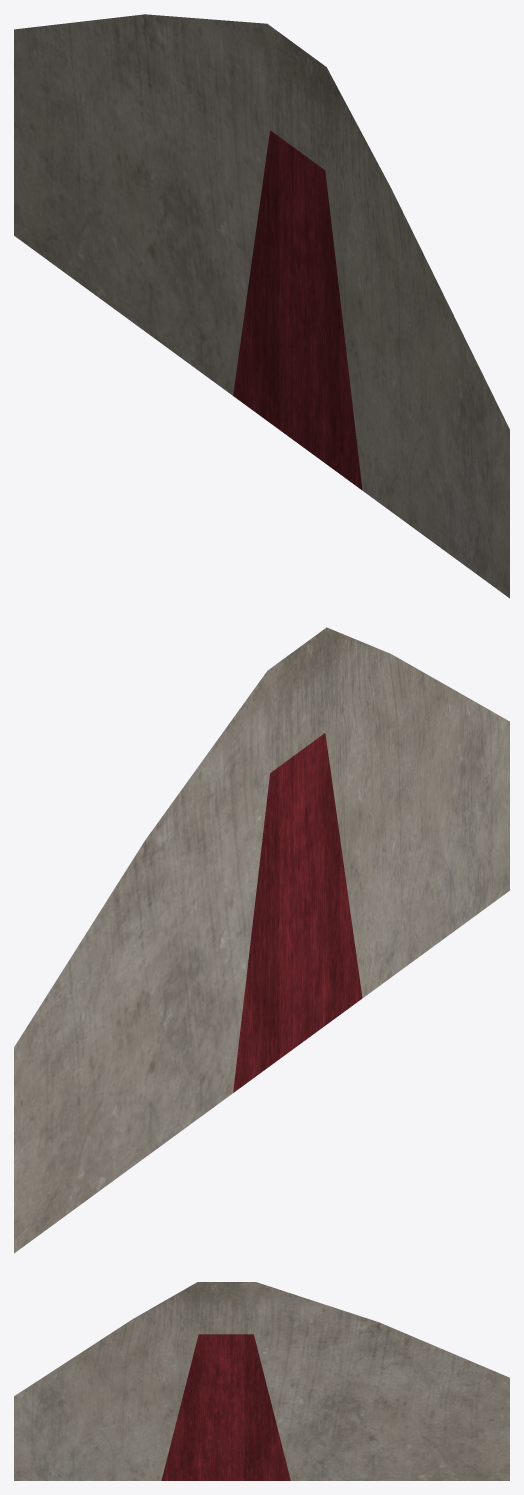
Rendered from SM_R_MiddleBeam_12.fbx.
3 views of the same model, one above another, from view 1: azimuth 30°, elevation 25°; view 2: azimuth 150°, elevation 25°; view 3: azimuth 270°, elevation 25° (orthographic). The views are drawn at different scales.
Parts seen in each view (by area): view 1: SM_R_MiddleBeam_12; view 2: SM_R_MiddleBeam_12; view 3: SM_R_MiddleBeam_12.
Boxes of the visible parts, left/top/right/bottom form: SM_R_MiddleBeam_12: left=14, top=14, right=509, bottom=598; SM_R_MiddleBeam_12: left=14, top=627, right=509, bottom=1253; SM_R_MiddleBeam_12: left=14, top=1282, right=509, bottom=1480.
Bounding box in the file's own units: 0.000457 × 329 × 145.
2 materials, 2 textured.
